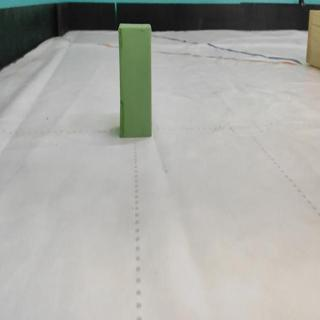greenbox: (118, 21, 153, 140)
